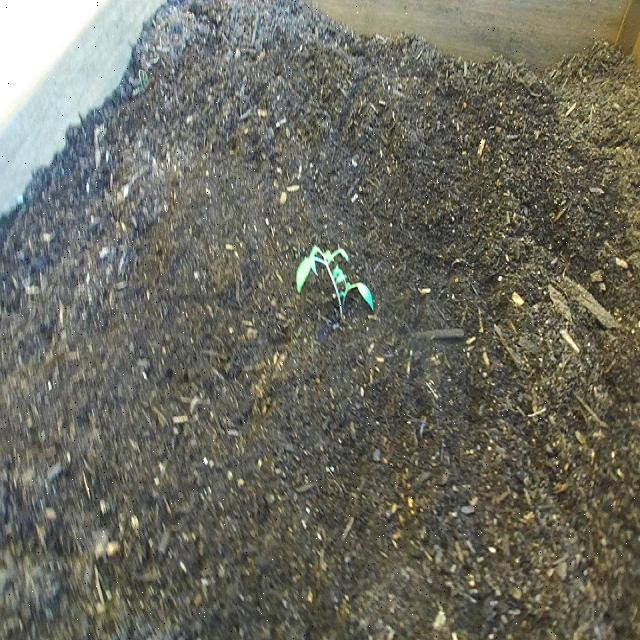Healthy: (290, 230, 387, 342)
